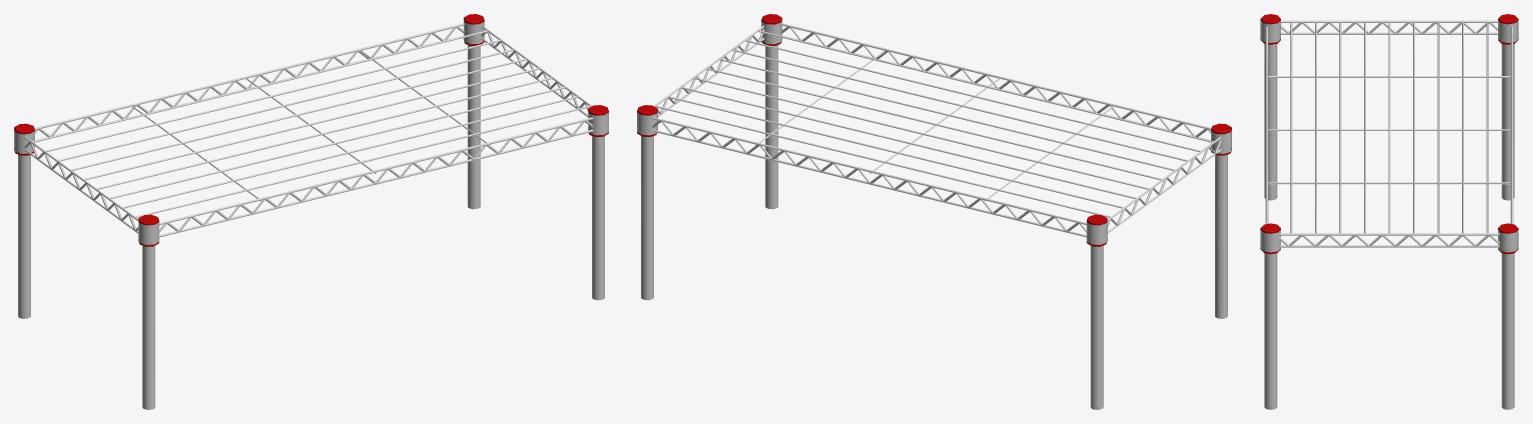
File: Shelf01c.fbx
3 views of the same model, side by side, from view 1: azimuth 30°, elevation 25°; view 2: azimuth 150°, elevation 25°; view 3: azimuth 270°, elevation 25° (orthographic). The views are drawn at different scales.
Parts seen in each view (by area): view 1: Shelf01c; view 2: Shelf01c; view 3: Shelf01c.
Boxes of the visible parts, box(x1,y1,x2,y2) form: Shelf01c: box(14, 14, 608, 409); Shelf01c: box(637, 14, 1231, 409); Shelf01c: box(1260, 14, 1518, 409).
Size of the model in its own units: 100 by 38.5 by 50.
